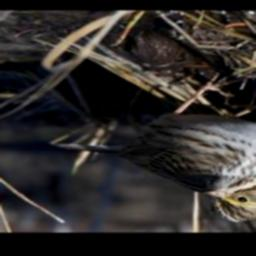Sparrow: (52, 74, 256, 224)
